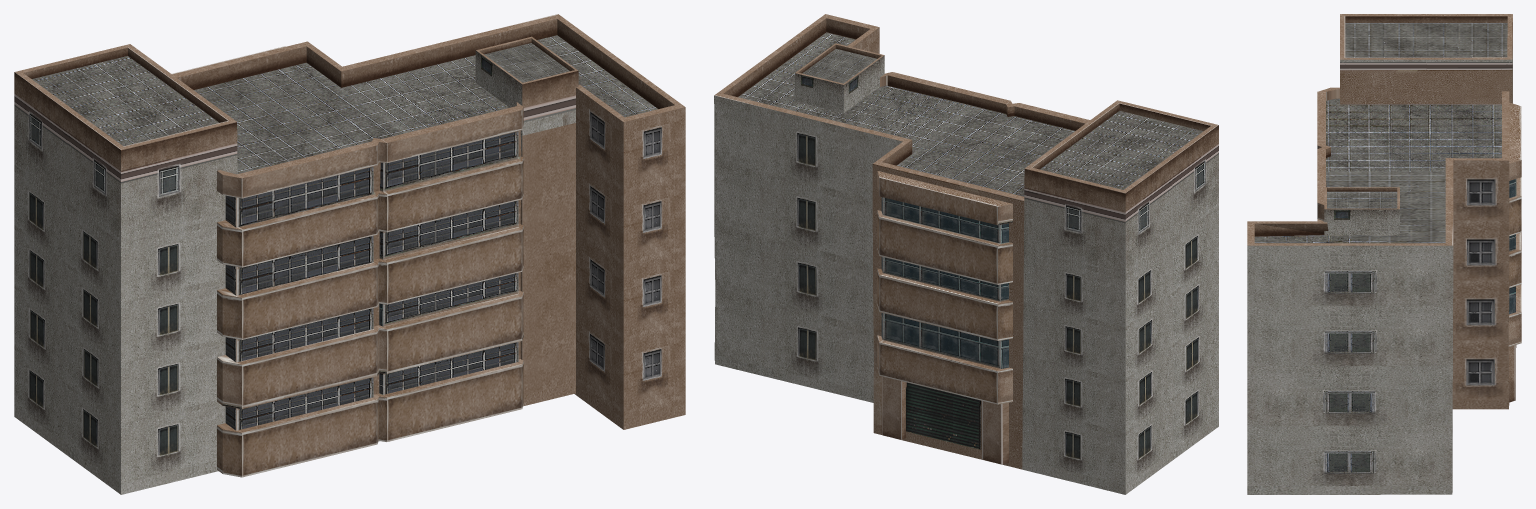
Rendered from buildings_01_04.FBX.
3 views of the same model, side by side, from view 1: azimuth 30°, elevation 25°; view 2: azimuth 150°, elevation 25°; view 3: azimuth 270°, elevation 25° (orthographic). The views are drawn at different scales.
Visible parts, largest first — view 1: Object120; view 2: Object120; view 3: Object120.
Boxes of the visible parts, x1,y1,x2,y2 form: Object120: (14,14,685,494); Object120: (714,14,1218,494); Object120: (1247,14,1521,494).
Size of the model in its own units: 2268 by 1314 by 1482.
Materials: 1 (1 with a texture image).
